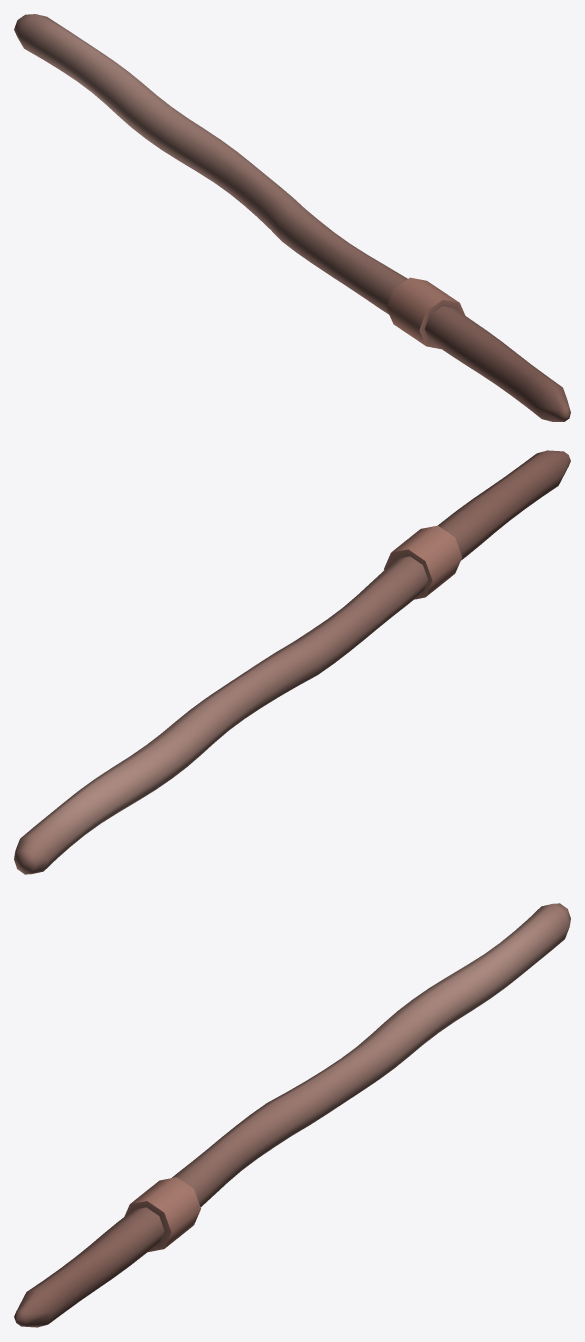
The model's file is kit-worm.glb.
The picture shows the model from 3 angles, top to bottom: view 1: azimuth 30°, elevation 25°; view 2: azimuth 150°, elevation 25°; view 3: azimuth 330°, elevation 25°; orthographic projection. The views are drawn at different scales.
Visible parts, largest first — view 1: base; view 2: base; view 3: base.
Boxes of the visible parts, box(x1,y1,x2,y2) form: base: box(14, 14, 570, 421); base: box(14, 450, 570, 874); base: box(14, 903, 570, 1327).
Bounding box in the file's own units: 0.1529 × 0.1429 × 2.79.
